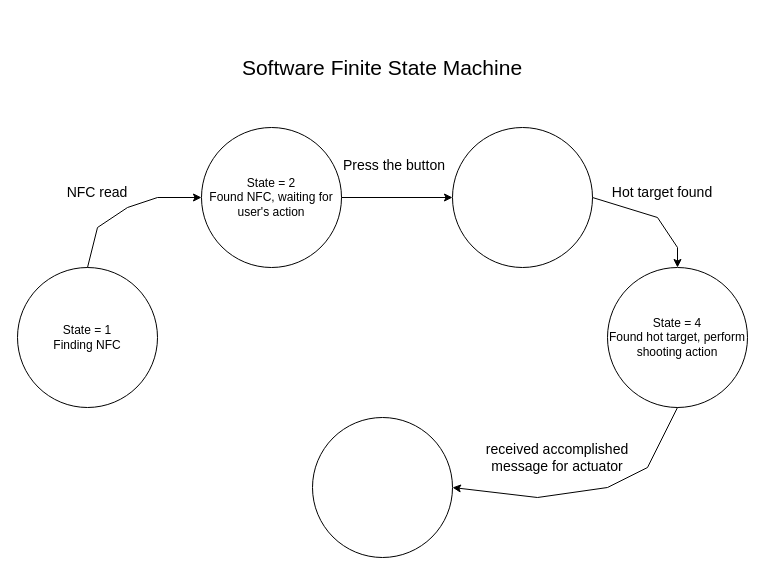
Some shapes in this 765 by 575 pixel diagram are drawn without their labels. The centre of each missing label's shape, as x and y in pixels:
State = 3 Loaded with balls, proceed to find hot target: pixel 522 197
State = 5 Shot at hot target, finish mapping: pixel 382 487
